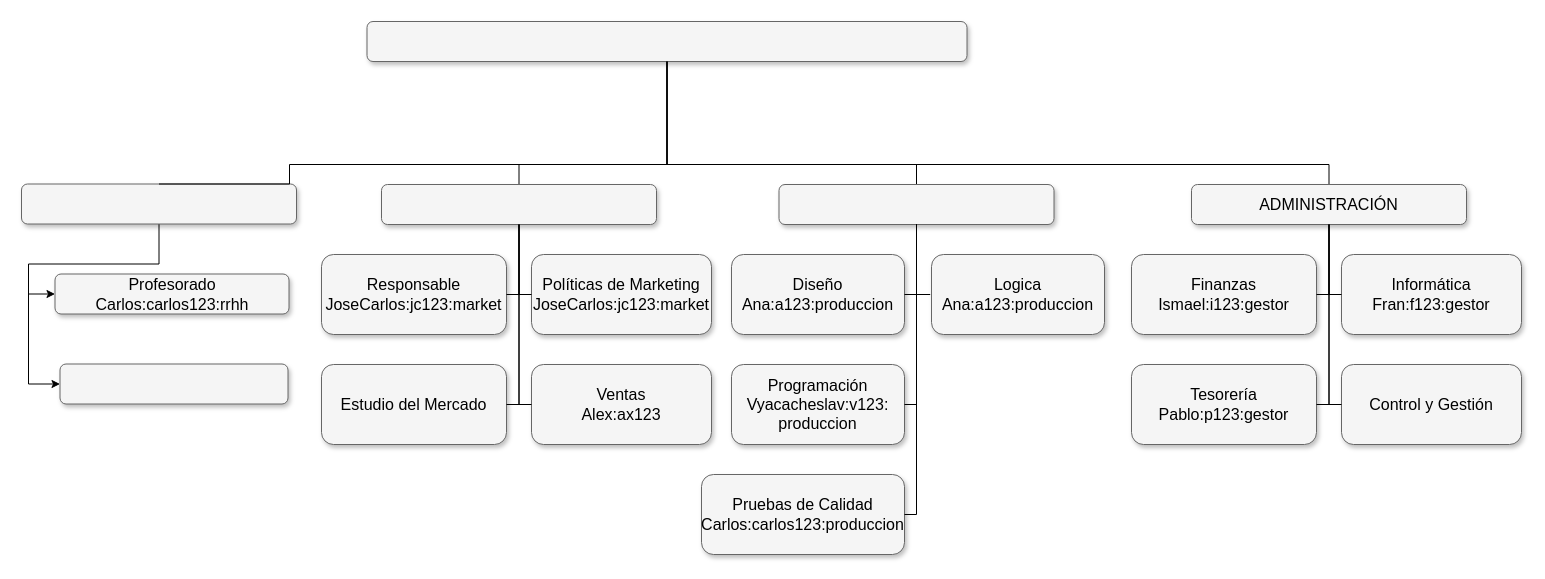
The diagram is 1545 pixels wide and 579 high, and some of its shapes have lost their labels. The shapes that lost their labels are listed below. From the top down, each one's centre as x and y in pixels, then its label:
point 667,42: CEO Vyacheslav:v123:administrador
point 159,205: RRHH
point 519,206: MARKETING
point 917,206: PRODUCCIÓN
point 174,385: V. Shylyayev Vyacheslav:v123:administrador
